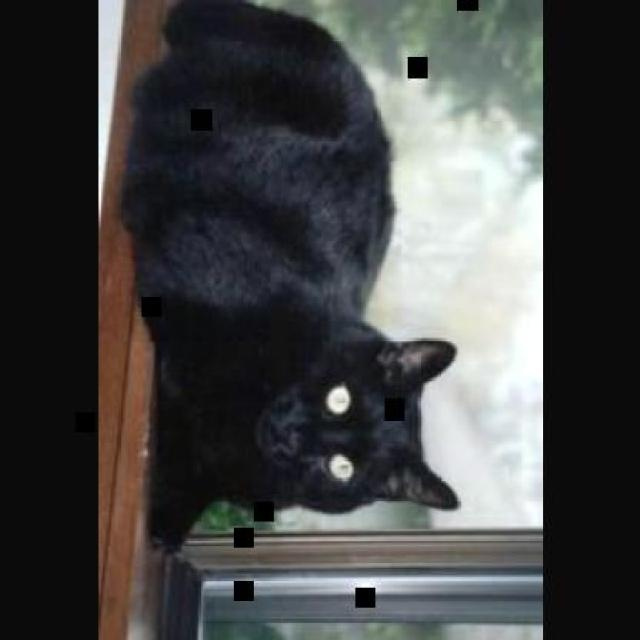unauthorized: (115, 0, 459, 552)
